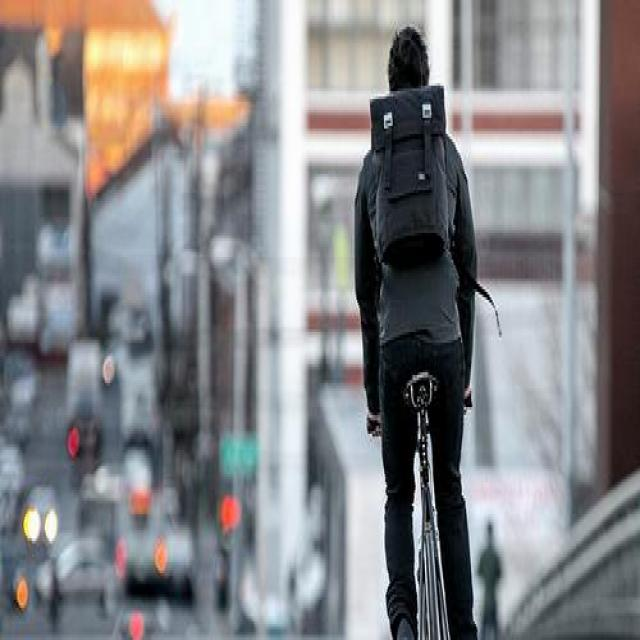bikerider: (344, 22, 507, 638)
